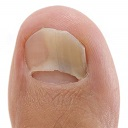Nail Fungal Infection: (26, 60, 86, 89)
